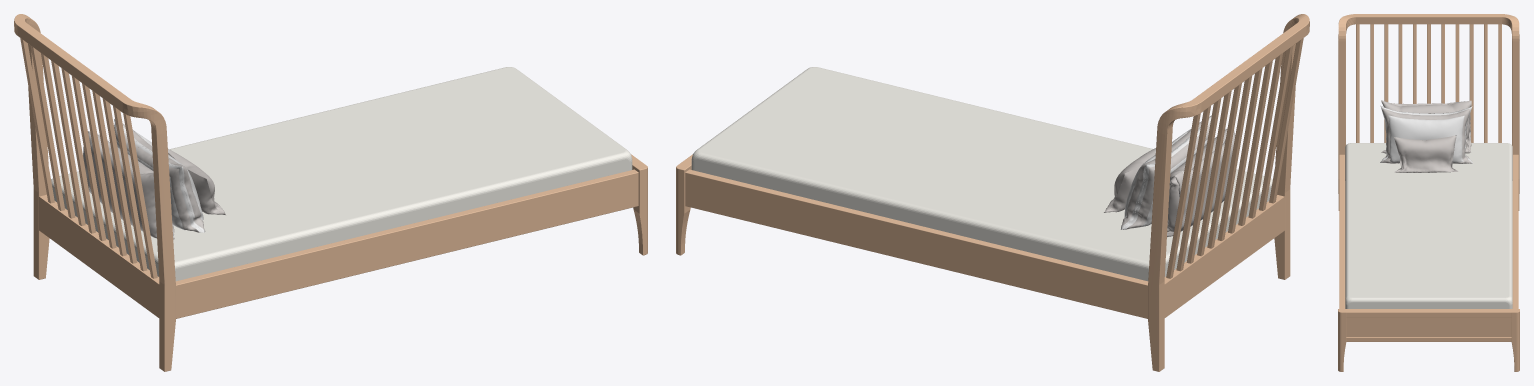
Rendered from teroldego-cama.glb.
3 views of the same model, side by side, from view 1: azimuth 30°, elevation 25°; view 2: azimuth 150°, elevation 25°; view 3: azimuth 270°, elevation 25° (orthographic). The views are drawn at different scales.
Parts seen in each view (by area): view 1: Component6, Component2, Pé cama dois voltas bom, Component15, Component21, single bed_Defintion#6, single bed_Defintion#5, single bed_Defintion#4, Component16, Component13, Component19, Component12 (+9 smaller); view 2: Component6, Component2, Pé cama dois voltas bom, Component15, Component21, single bed_Defintion#6, single bed_Defintion#5, Component9, Component12, Component18, Component19, Component10 (+9 smaller); view 3: Component6, Component8, Pé cama dois voltas bom, single bed_Defintion#4, single bed_Defintion#2, Component2, Component21, Component4, single bed_Defintion#6, Component3, single bed_Defintion#5, Component7 (+12 smaller).
Boxes of the visible parts, <box> form: Component6: <box>51,67,632,281</box>; Component2: <box>175,169,638,318</box>; Pé cama dois voltas bom: <box>14,14,175,371</box>; Component15: <box>39,195,159,317</box>; Component21: <box>17,23,131,112</box>; single bed_Defintion#6: <box>83,131,174,239</box>; single bed_Defintion#5: <box>114,123,204,232</box>; single bed_Defintion#4: <box>114,119,205,232</box>; Component16: <box>123,113,157,278</box>; Component13: <box>51,60,85,225</box>; Component19: <box>102,98,137,263</box>; Component12: <box>41,53,75,218</box>; Component6: <box>691,67,1272,281</box>; Component2: <box>685,169,1148,318</box>; Pé cama dois voltas bom: <box>1148,14,1309,371</box>; Component15: <box>1164,195,1284,317</box>; Component21: <box>1192,23,1306,112</box>; single bed_Defintion#6: <box>1167,128,1235,237</box>; single bed_Defintion#5: <box>1121,121,1210,229</box>; Component9: <box>1166,113,1200,278</box>; Component12: <box>1186,98,1221,263</box>; Component18: <box>1238,60,1272,225</box>; Component19: <box>1248,53,1282,218</box>; Component10: <box>1176,106,1210,271</box>; Component6: <box>1345,143,1512,308</box>; Component8: <box>1346,317,1511,336</box>; Pé cama dois voltas bom: <box>1338,14,1519,210</box>; single bed_Defintion#4: <box>1380,105,1472,163</box>; single bed_Defintion#2: <box>1394,135,1458,172</box>; Component2: <box>1339,154,1518,308</box>; Component21: <box>1356,14,1501,24</box>; Component4: <box>1346,309,1511,317</box>; single bed_Defintion#6: <box>1381,100,1471,153</box>; Component3: <box>1338,309,1519,371</box>; single bed_Defintion#5: <box>1381,108,1471,163</box>; Component7: <box>1346,337,1511,341</box>.
Bounding box in the file's own units: 2.22 × 1.11 × 0.985.
